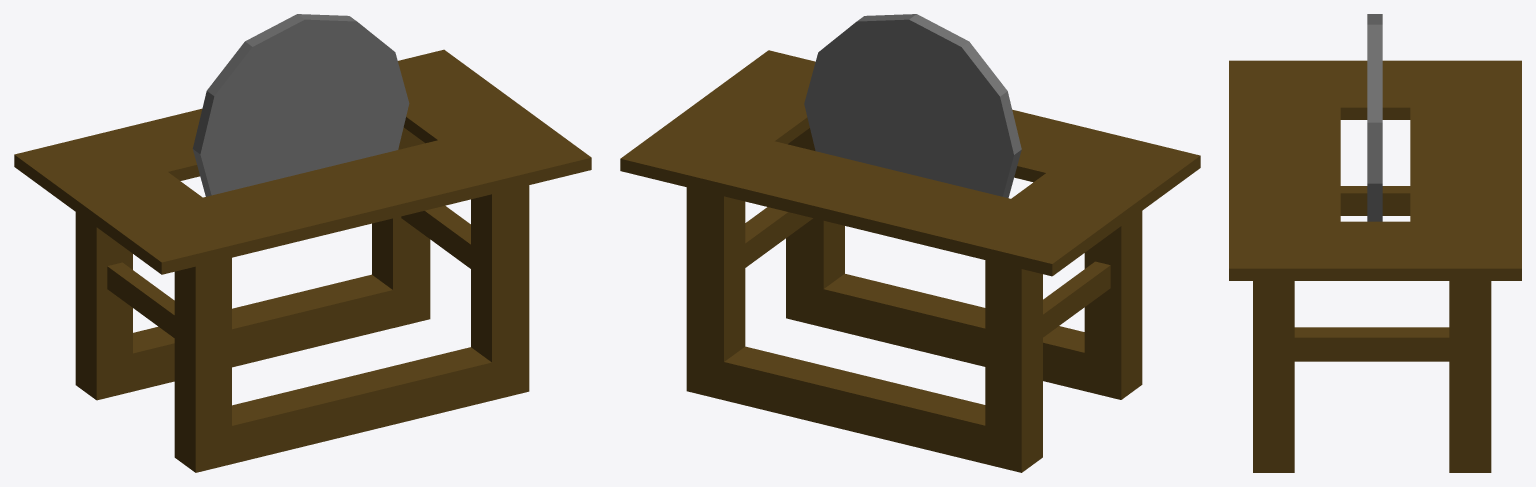
Rendered from mesadeserra.fbx.
The picture shows the model from 3 angles, left to right: view 1: azimuth 30°, elevation 25°; view 2: azimuth 150°, elevation 25°; view 3: azimuth 270°, elevation 25°; orthographic projection.
Parts seen in each view (by area): view 1: Circle; view 2: Circle; view 3: Circle.
Part boxes in pixels (bbox=[...]): Circle: bbox=[14, 14, 591, 472]; Circle: bbox=[620, 14, 1200, 472]; Circle: bbox=[1229, 14, 1521, 472].
Bounding box in the file's own units: 619 × 509 × 368.
